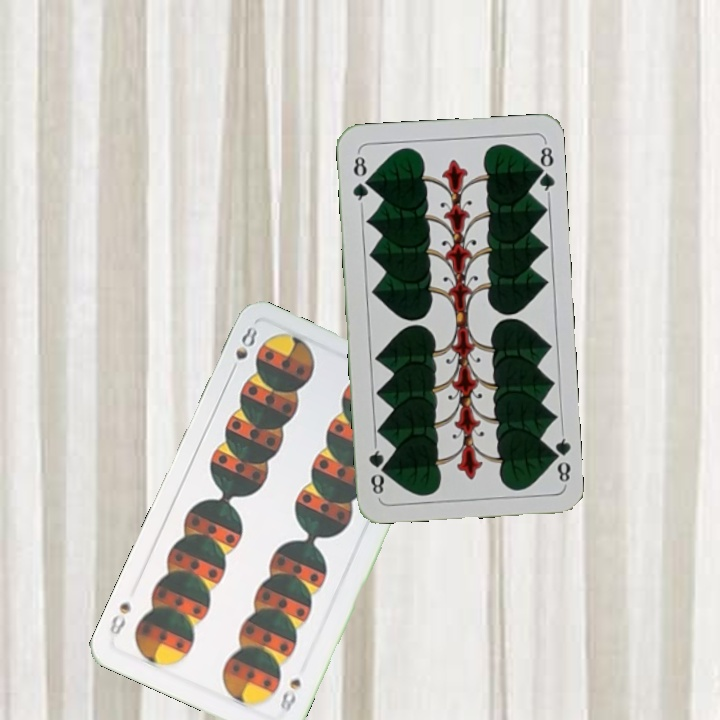G8: (546, 428, 573, 487), (348, 149, 372, 208)
S8: (226, 323, 260, 378), (276, 674, 304, 715)
